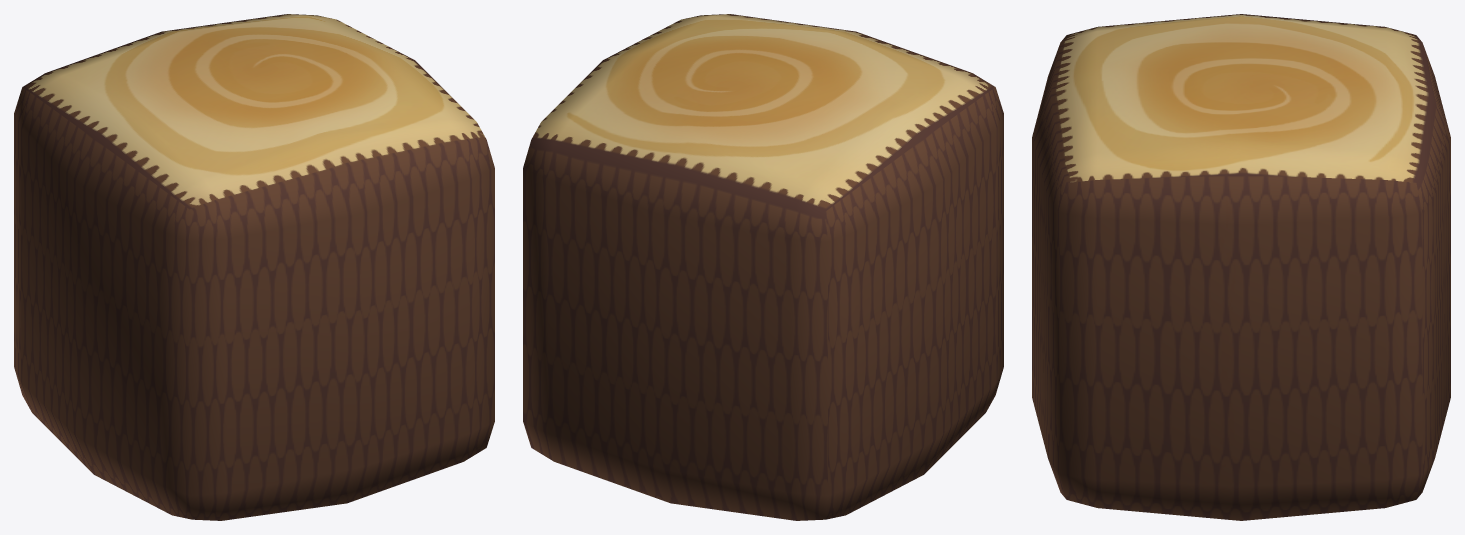
File: log_model.fbx
3 renders of one model, left to right at view 1: azimuth 30°, elevation 25°; view 2: azimuth 150°, elevation 25°; view 3: azimuth 270°, elevation 25°, orthographic. The views are drawn at different scales.
Parts seen in each view (by area): view 1: log; view 2: log; view 3: log.
Part boxes in pixels (x1,y1,x2,y2): log: (14,14,494,520); log: (523,14,1003,520); log: (1032,14,1450,520).
Size of the model in its own units: 10.82 by 10.82 by 10.82.
1 material, 1 textured.
